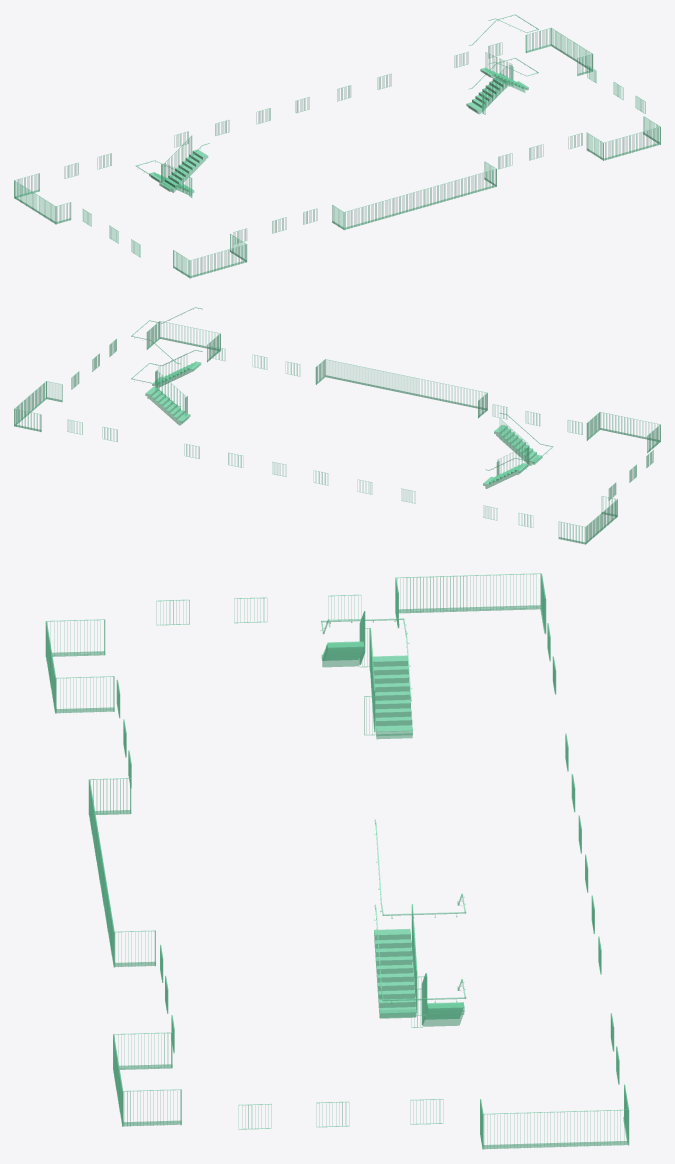
File: Level_01_circulation.glb
3 renders of one model, top to bottom at view 1: azimuth 30°, elevation 25°; view 2: azimuth 150°, elevation 25°; view 3: azimuth 270°, elevation 25°, orthographic. The views are drawn at different scales.
Visible parts, largest first — view 1: world; view 2: world; view 3: world.
Part boxes in pixels (x1,y1,x2,y2): world: [14, 14, 660, 278]; world: [14, 307, 660, 544]; world: [45, 573, 629, 1149].
Bounding box in the file's own units: 42.18 × 7.41 × 19.23.
